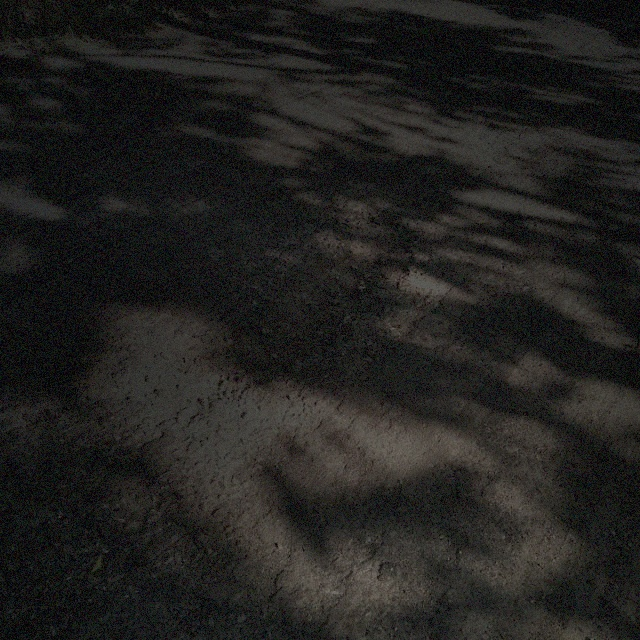pothole: (216, 211, 419, 390)
